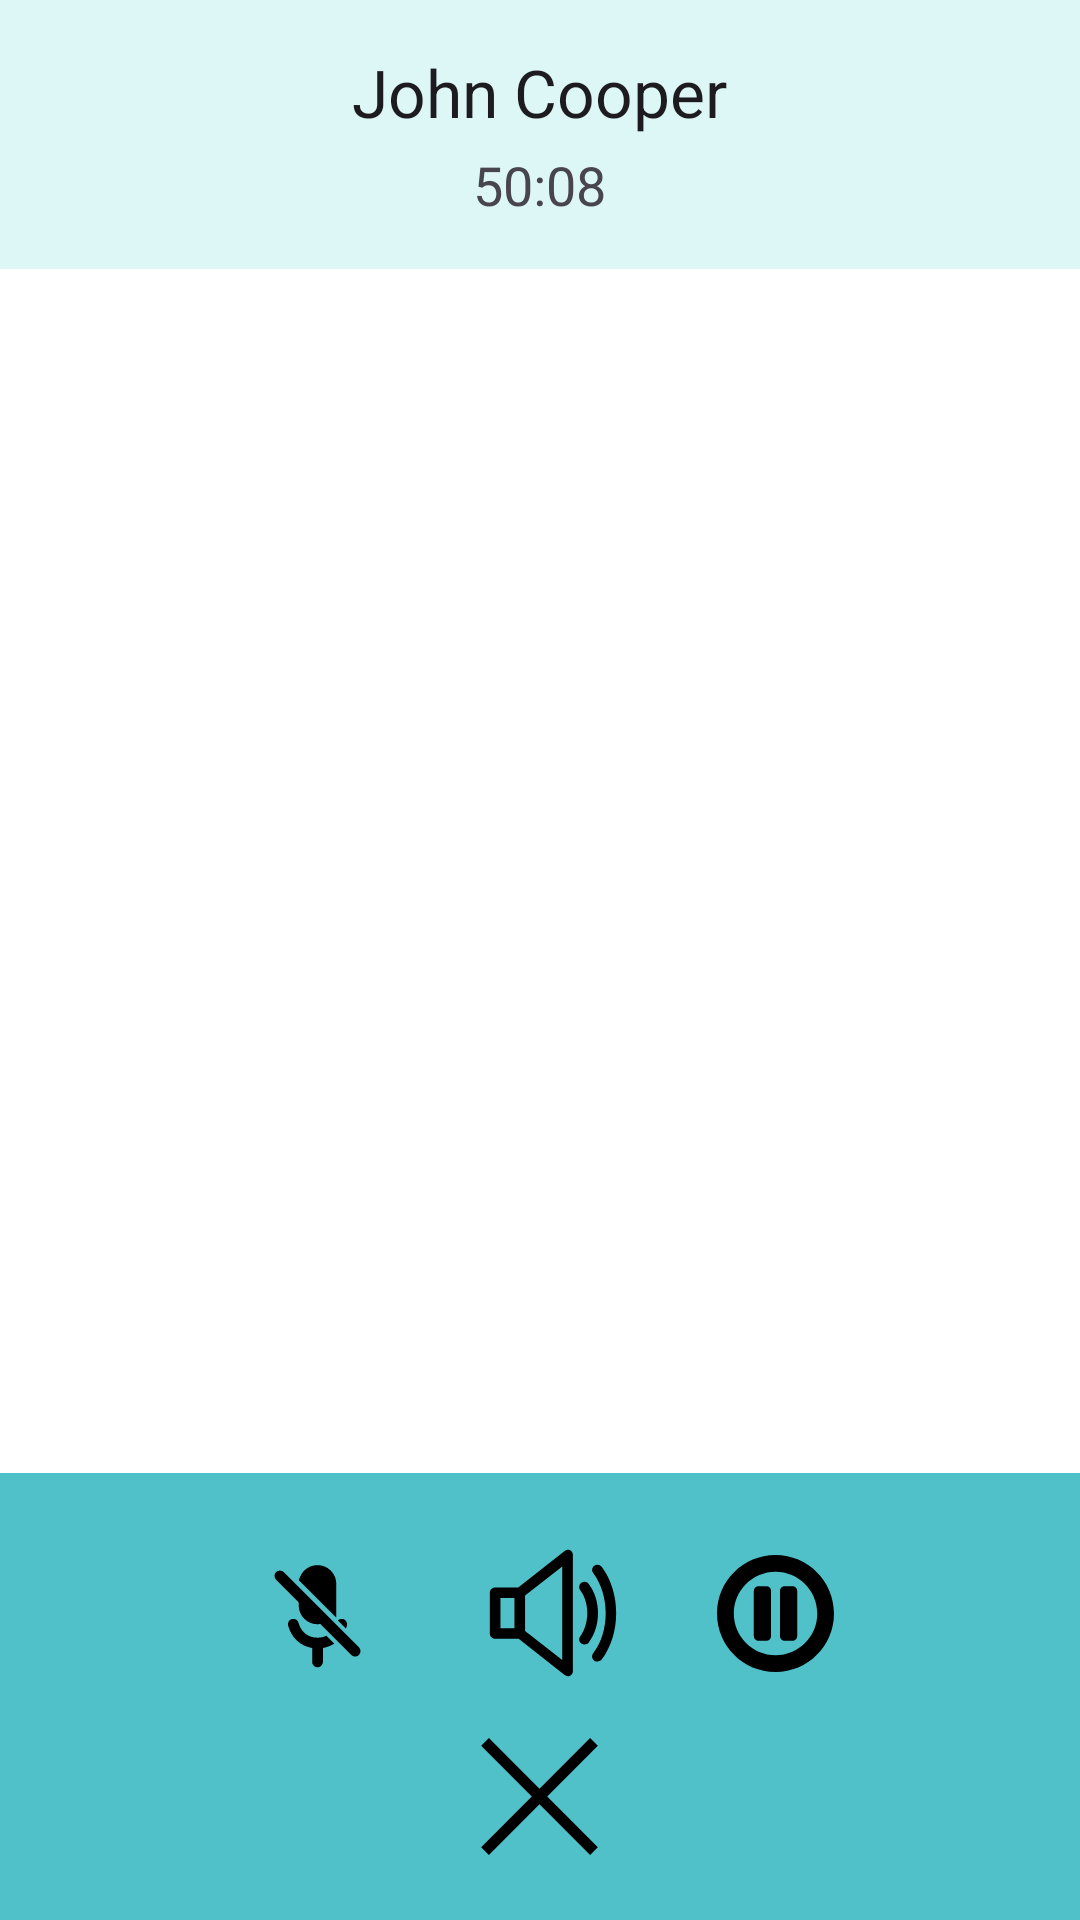

Screen size 1080px×1920px. Icon name, then its box in pixels as (x1, y1, x2, y2):
cross: (481, 1738, 598, 1855)
mute mic: (274, 1565, 361, 1668)
pause: (717, 1555, 834, 1672)
speaker: (489, 1549, 617, 1677)
